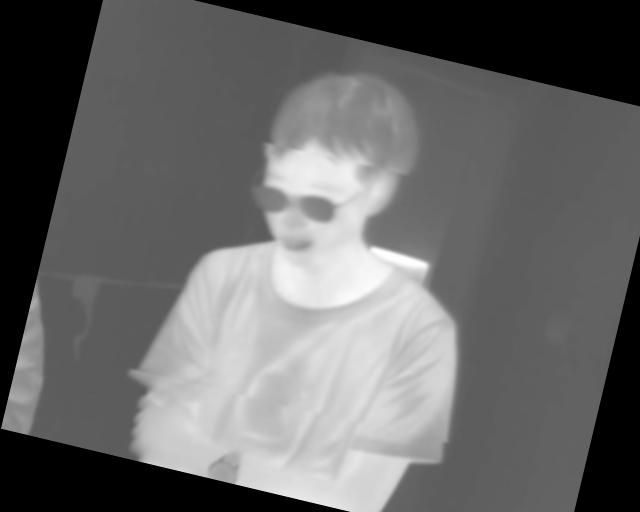face: (234, 52, 434, 288)
